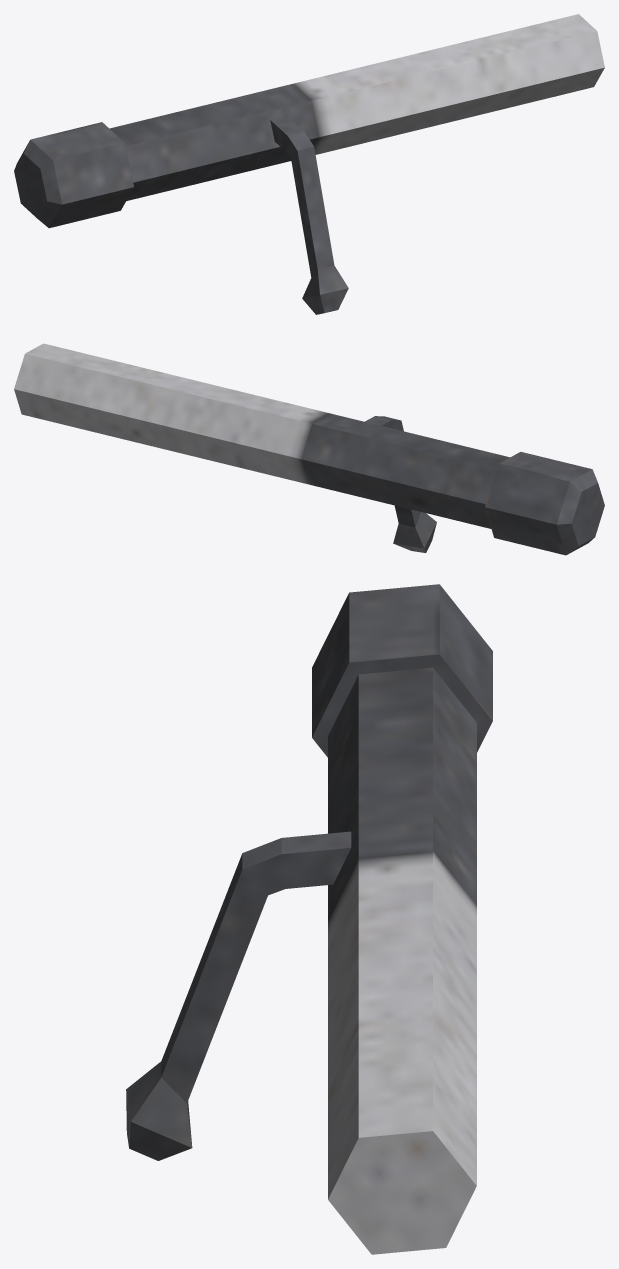
The model's file is hunting_rifle_01.glb.
3 views of the same model, one above another, from view 1: azimuth 30°, elevation 25°; view 2: azimuth 150°, elevation 25°; view 3: azimuth 270°, elevation 25° (orthographic). The views are drawn at different scales.
Visible parts, largest first — view 1: hunting_rifle_01; view 2: hunting_rifle_01; view 3: hunting_rifle_01.
Boxes of the visible parts, box(x1,y1,x2,y2) form: hunting_rifle_01: box(14, 14, 604, 314); hunting_rifle_01: box(14, 343, 604, 555); hunting_rifle_01: box(126, 584, 492, 1254).
Bounding box in the file's own units: 0.308 × 0.0936 × 0.088.
Materials: 1 (1 with a texture image).
